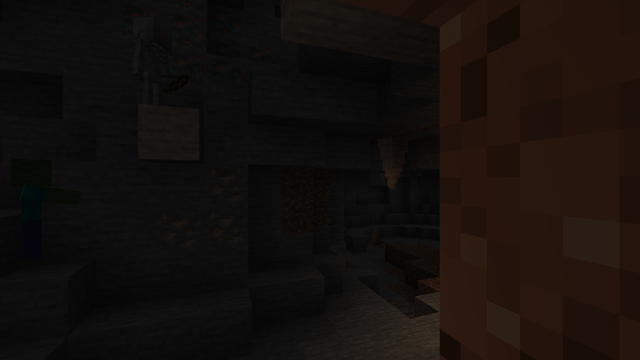squelettes: (131, 13, 170, 114)
zombies: (3, 161, 51, 269)
